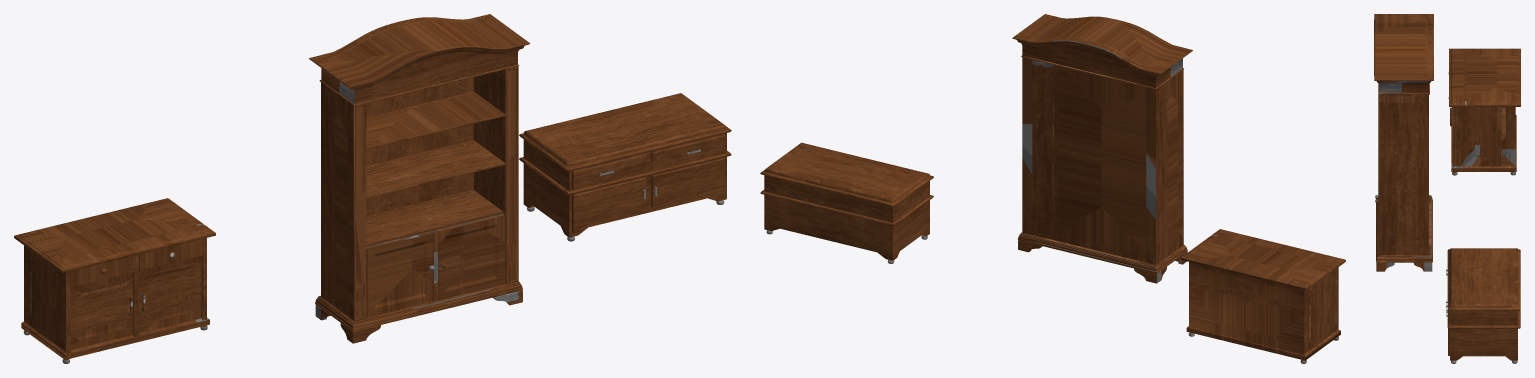
Rendered from Estante 2.obj.
3 views of the same model, side by side, from view 1: azimuth 30°, elevation 25°; view 2: azimuth 150°, elevation 25°; view 3: azimuth 270°, elevation 25° (orthographic). The views are drawn at different scales.
Parts seen in each view (by area): view 1: Furniture:Mesh; view 2: Furniture:Mesh; view 3: Furniture:Mesh.
Part boxes in pixels (x1,y1,x2,y2): Furniture:Mesh: [14, 14, 731, 363]; Furniture:Mesh: [760, 14, 1345, 363]; Furniture:Mesh: [1374, 14, 1520, 363].
Bounding box in the file's own units: 8.5 × 3.32 × 2.16.
Materials: 1 (1 with a texture image).
